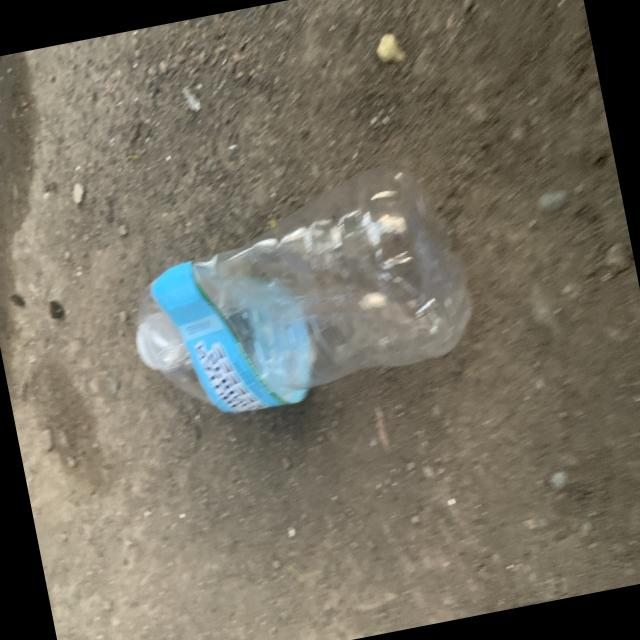Bottle: (135, 168, 471, 413)
